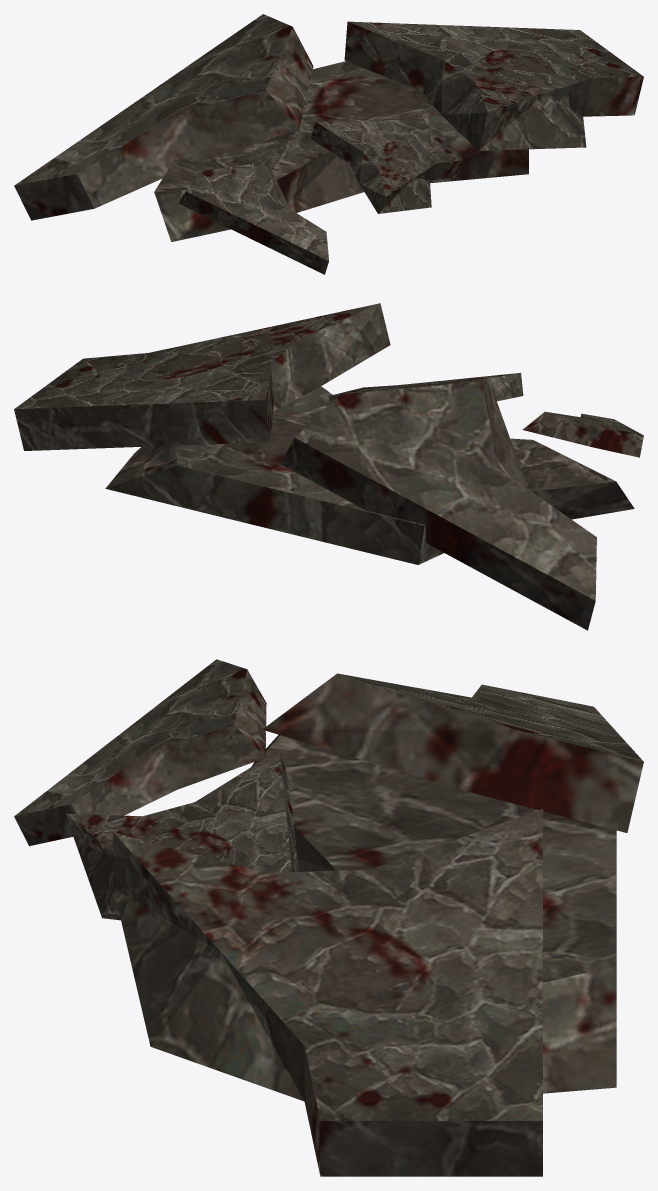
The model's file is blsd_shiqiang_08.FBX.
The picture shows the model from 3 angles, top to bottom: view 1: azimuth 30°, elevation 25°; view 2: azimuth 150°, elevation 25°; view 3: azimuth 270°, elevation 25°; orthographic projection. The views are drawn at different scales.
Visible parts, largest first — view 1: blsd_shiqiang_08; view 2: blsd_shiqiang_08; view 3: blsd_shiqiang_08.
Part boxes in pixels (x1=…): blsd_shiqiang_08: x1=14, y1=14, x2=643, y2=274; blsd_shiqiang_08: x1=14, y1=303, x2=643, y2=630; blsd_shiqiang_08: x1=14, y1=659, x2=643, y2=1176.
Bounding box in the file's own units: 284 × 71.9 × 161.
